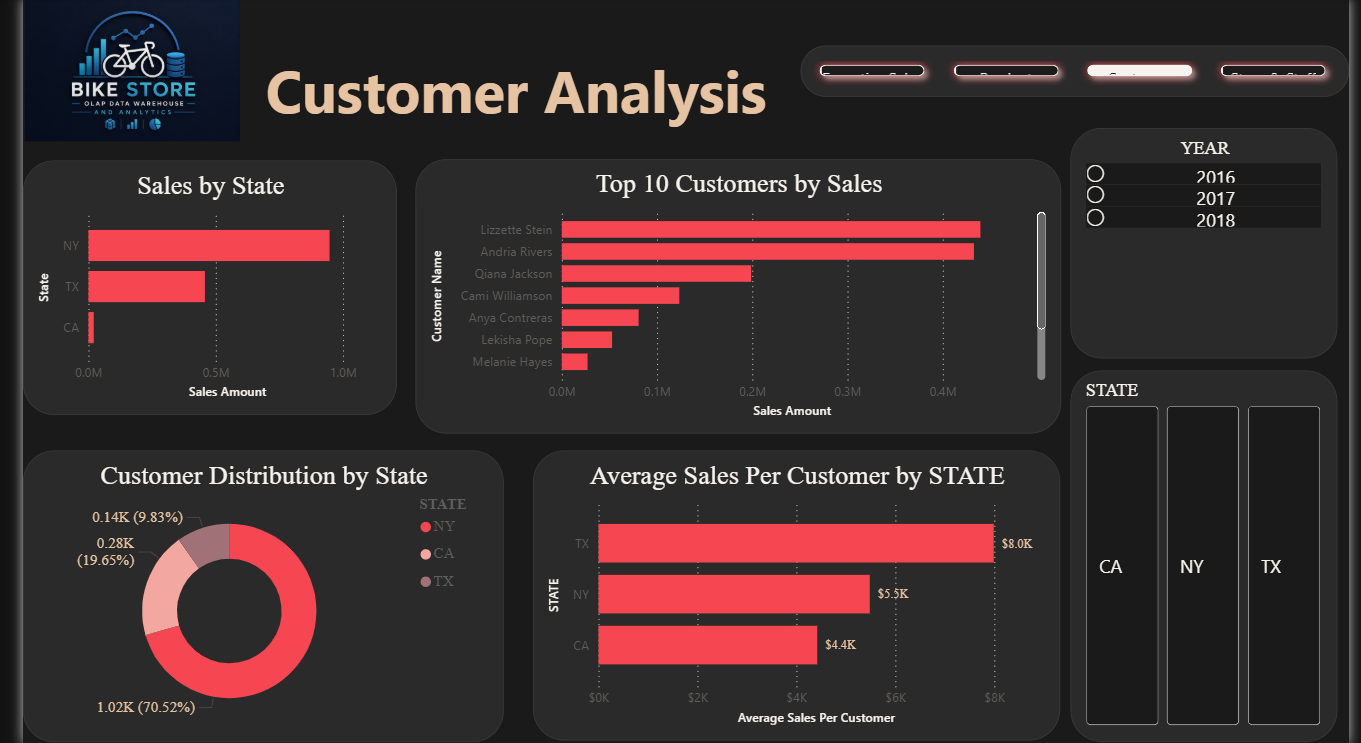

Layout of this report page (visuals, bound fields, positions):
{"tool":"powerbi","page":{"name":"Customer","canvas":[1280,720],"ordinal":2},"visuals":[{"type":"image","box":[0,0,211.3,138.6],"z":0},{"type":"listSlicer","fields":{"Values":["dim_date.YEAR"]},"box":[1011.3,124.9,258,222.3],"z":1000},{"type":"textbox","box":[211.3,45.3,529.7,93.3],"z":2000},{"type":"advancedSlicerVisual","fields":{"Values":["dim_customers.STATE"]},"box":[1011.3,359.5,258,358.1],"z":3000},{"type":"pageNavigator","box":[750.6,45.3,529.7,49.4],"z":4000},{"type":"clusteredBarChart","title":"Top 10 Customers by Sales","fields":{"Category":["dim_customers.FULL_NAME"],"Y":["Sum(fact_sales.SALES_AMOUNT)"]},"box":[378.7,155.1,623,264.8],"z":5000},{"type":"clusteredBarChart","title":"Sales by State","fields":{"Category":["dim_customers.STATE"],"Y":["Sum(fact_sales.SALES_AMOUNT)"]},"box":[0,156.4,360.9,245.6],"z":6000},{"type":"donutChart","title":"Customer Distribution by State","fields":{"Category":["dim_customers.STATE"],"Y":["Count(dim_customers.CUSTOMER_KEY)"]},"box":[0,436.4,463.8,281.3],"z":7000},{"type":"clusteredBarChart","fields":{"Y":["fact_sales.Average Sales Per Customer"],"Category":["dim_customers.STATE"]},"box":[492.6,436.4,509.1,279.9],"z":8000}]}

Visuals, with their boxes on the page's 1280x720 design canvas (x1, y1, x2, y2). These are canvas units, not pixel positions in the 1361x743 screenshot, which may show the page scaled, cropped or inside an application window:
image: bbox=[0, 0, 211, 139]
listSlicer - dim_date.YEAR: bbox=[1011, 125, 1269, 347]
textbox: bbox=[211, 45, 741, 139]
advancedSlicerVisual - dim_customers.STATE: bbox=[1011, 360, 1269, 718]
pageNavigator: bbox=[751, 45, 1280, 95]
"Top 10 Customers by Sales" clusteredBarChart: bbox=[379, 155, 1002, 420]
"Sales by State" clusteredBarChart: bbox=[0, 156, 361, 402]
"Customer Distribution by State" donutChart: bbox=[0, 436, 464, 718]
clusteredBarChart - fact_sales.Average Sales Per Customer x dim_customers.STATE: bbox=[493, 436, 1002, 716]
